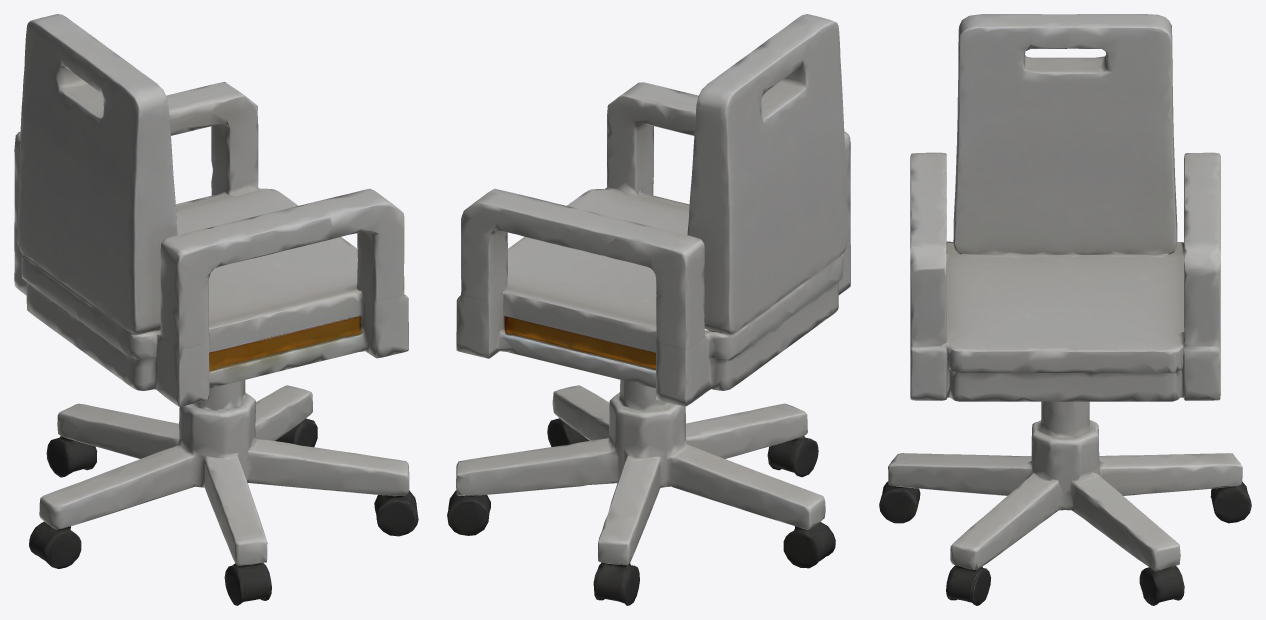
3 views of the same model, side by side, from view 1: azimuth 30°, elevation 25°; view 2: azimuth 150°, elevation 25°; view 3: azimuth 270°, elevation 25° (orthographic). The views are drawn at different scales.
Visible parts, largest first — view 1: tripo_node_6bdaf724-ca7d-45d2-8de8-0f57fd7acdb8; view 2: tripo_node_6bdaf724-ca7d-45d2-8de8-0f57fd7acdb8; view 3: tripo_node_6bdaf724-ca7d-45d2-8de8-0f57fd7acdb8.
Boxes of the visible parts, x1=… form: tripo_node_6bdaf724-ca7d-45d2-8de8-0f57fd7acdb8: x1=14, y1=14, x2=418, y2=605; tripo_node_6bdaf724-ca7d-45d2-8de8-0f57fd7acdb8: x1=447, y1=14, x2=850, y2=605; tripo_node_6bdaf724-ca7d-45d2-8de8-0f57fd7acdb8: x1=879, y1=14, x2=1251, y2=605.
Size of the model in its own units: 0.6916 by 1 by 0.7216.
1 material, 1 textured.
